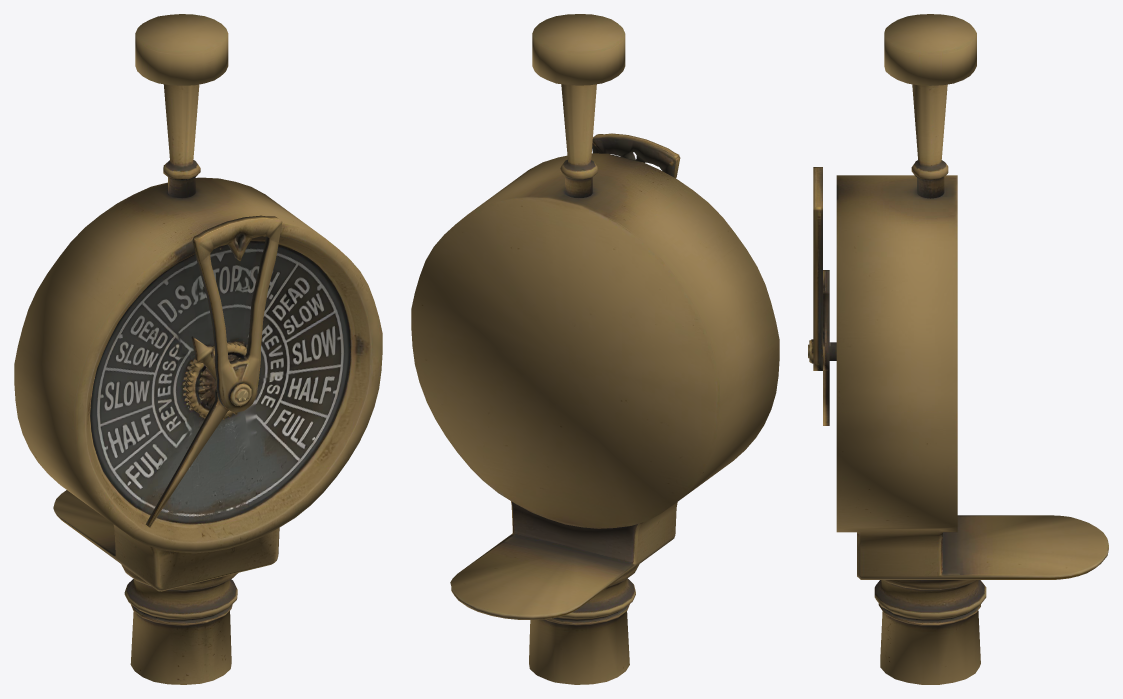
The model's file is selected.glb.
3 renders of one model, left to right at view 1: azimuth 30°, elevation 25°; view 2: azimuth 150°, elevation 25°; view 3: azimuth 270°, elevation 25°, orthographic.
Visible parts, largest first — view 1: tripo_node_43905cee-a1ee-4068-a627-adf7db75fe78; view 2: tripo_node_43905cee-a1ee-4068-a627-adf7db75fe78; view 3: tripo_node_43905cee-a1ee-4068-a627-adf7db75fe78.
Boxes of the visible parts, x1,y1,x2,y2 form: tripo_node_43905cee-a1ee-4068-a627-adf7db75fe78: (14, 14, 382, 684); tripo_node_43905cee-a1ee-4068-a627-adf7db75fe78: (411, 14, 779, 684); tripo_node_43905cee-a1ee-4068-a627-adf7db75fe78: (808, 14, 1108, 684).
Size of the model in its own units: 0.5098 by 0.998 by 0.4316.
1 material, 1 textured.
